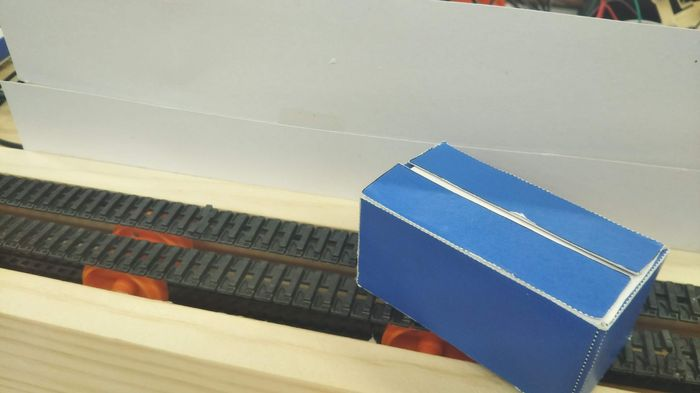box3: (354, 140, 668, 393)
